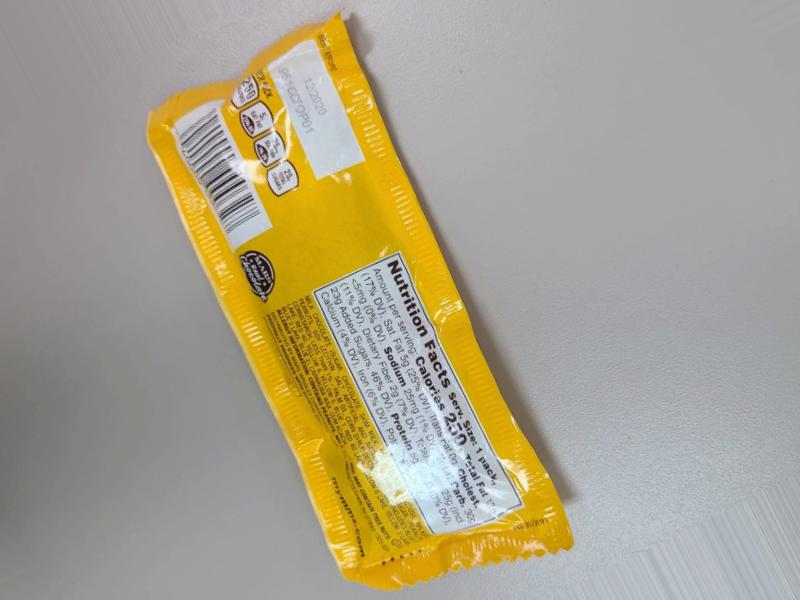m&m: (117, 51, 619, 585)
